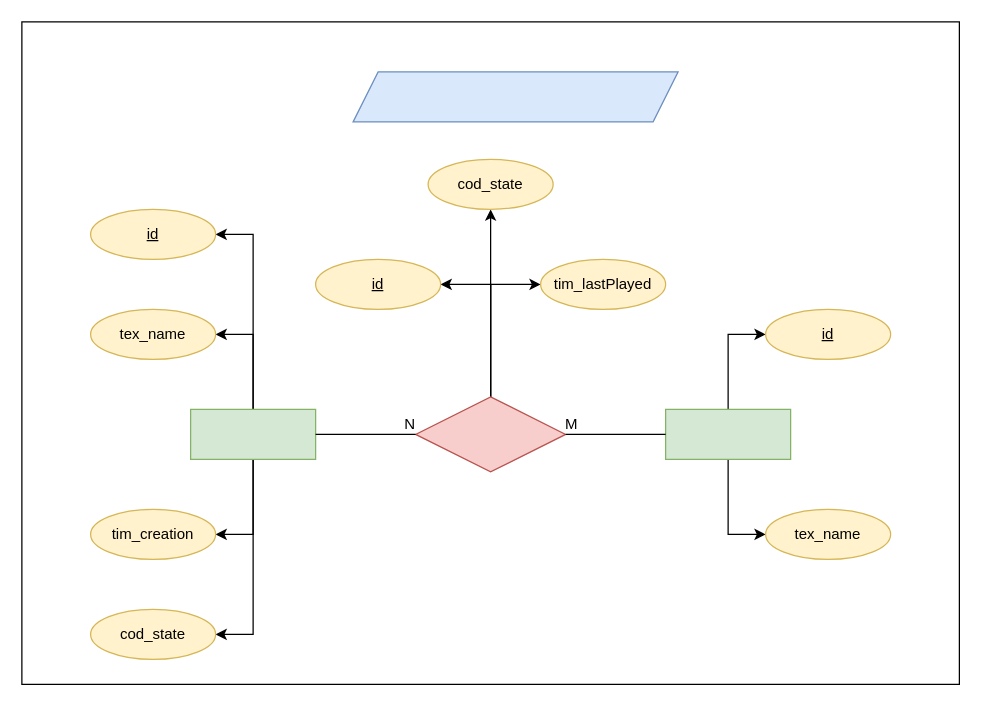
Some shapes in this 981 by 706 pixel diagram are drawn without their labels. Each missing label, with the box of its shape:
ER-Model Diagram: (352, 71, 678, 122)
Game: (664, 408, 791, 459)
GamePlayer: (414, 396, 566, 472)
Player: (189, 408, 316, 459)
